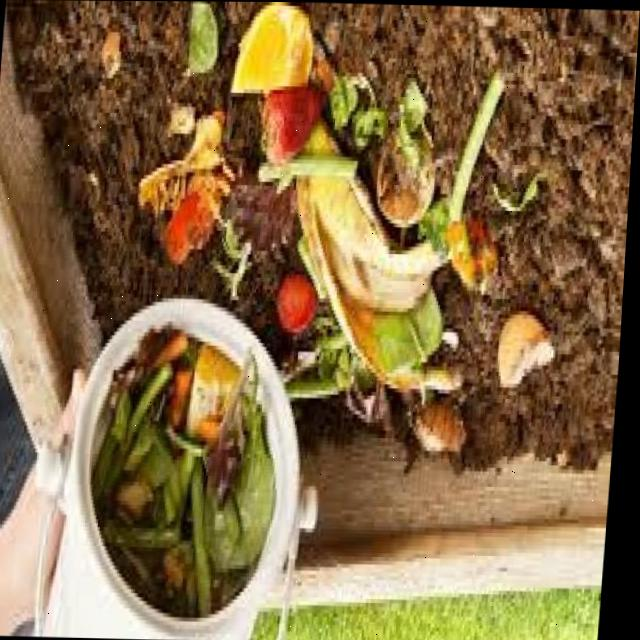Wet: (70, 1, 599, 631), (493, 301, 567, 400)
